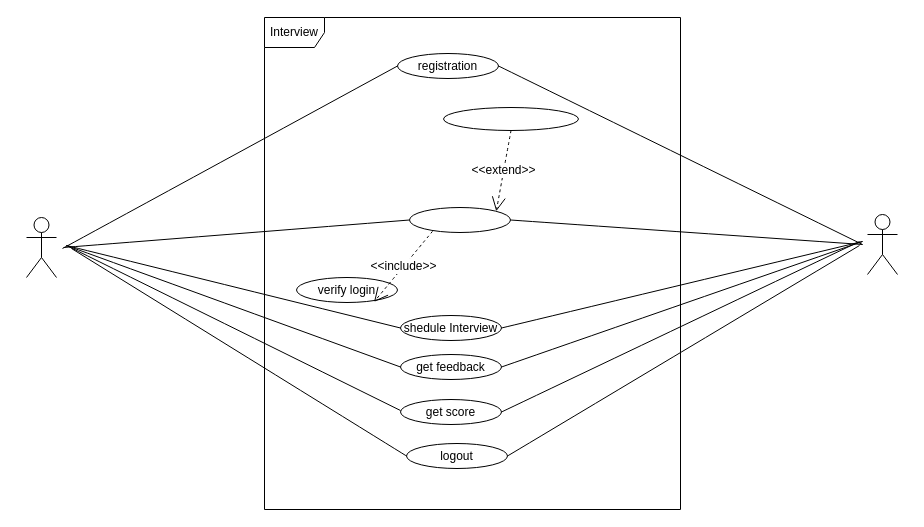
This 924x527 diagram has some shape labels left out. Each missing label, with the centre of its shape:
Applicant: the point at 41,247
Display error message: the point at 510,118
login: the point at 459,219
Recruiter: the point at 882,244
